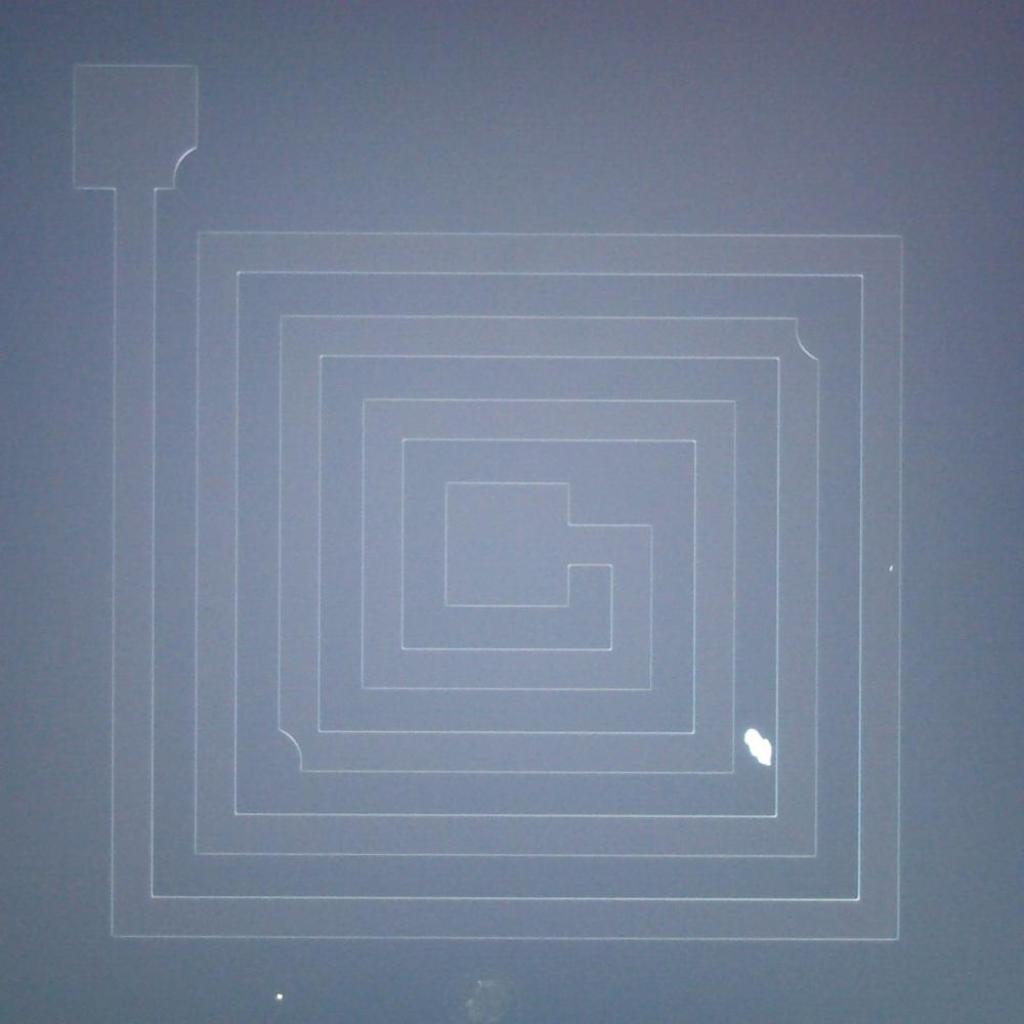Bdot: (738, 728, 774, 766)
dot: (278, 994, 284, 1000), (888, 566, 894, 572)
